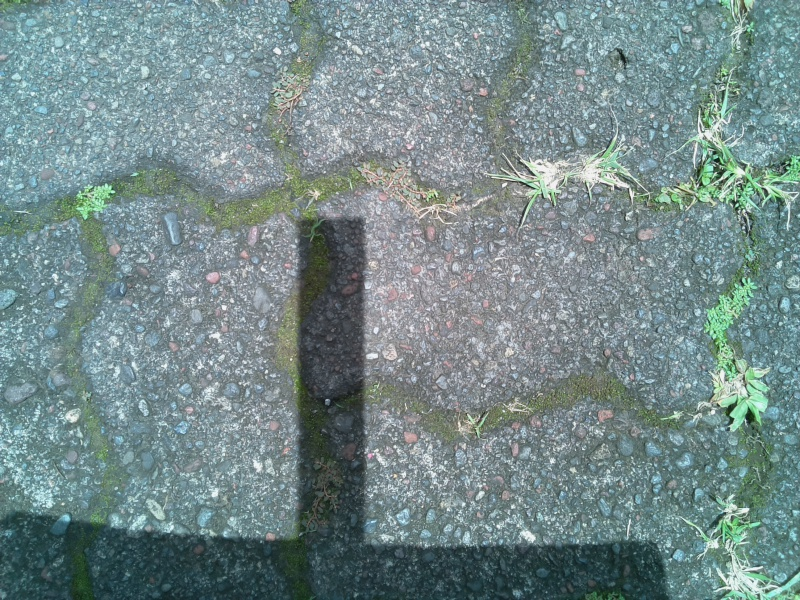Weed: (688, 111, 774, 208), (510, 149, 639, 201), (699, 280, 753, 365), (358, 159, 438, 213), (705, 363, 765, 424), (299, 456, 346, 530), (712, 557, 788, 599), (699, 504, 757, 557), (268, 66, 315, 126), (72, 184, 116, 219), (462, 408, 489, 444), (302, 215, 326, 246)
